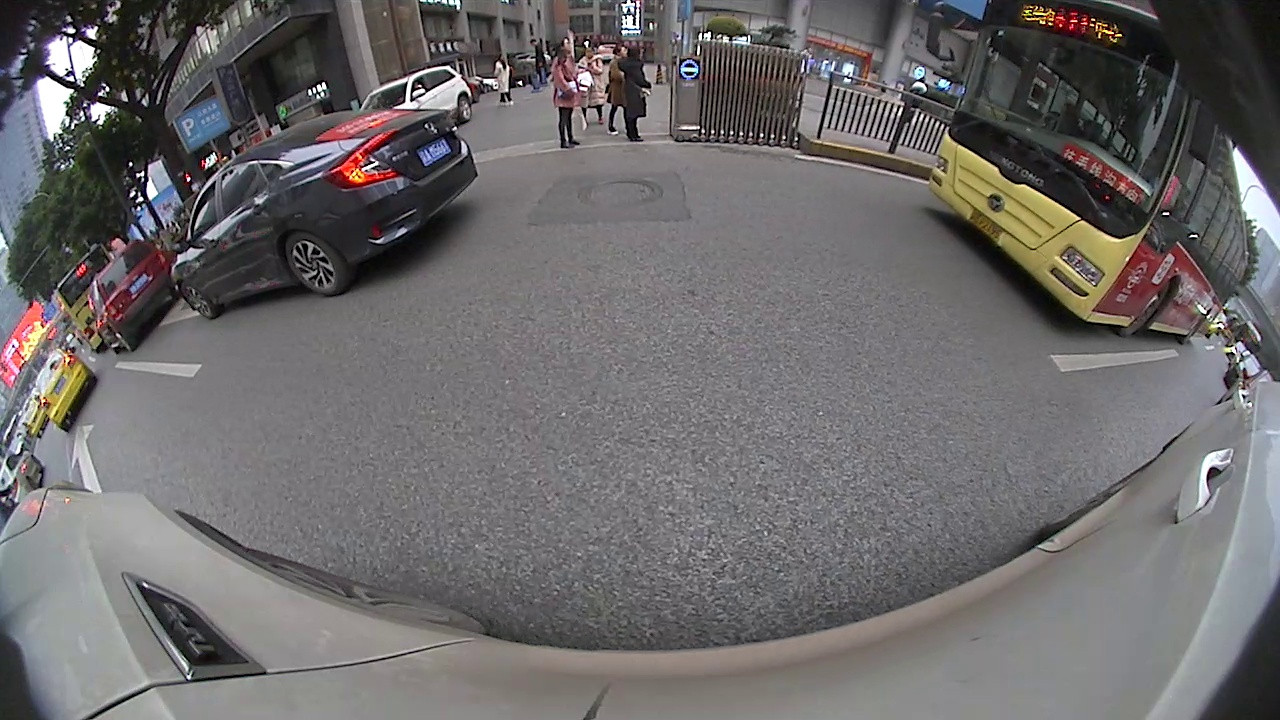bus: (921, 2, 1256, 349)
car: (168, 102, 480, 322), (84, 236, 186, 353), (359, 62, 473, 130), (30, 342, 97, 437)
front: (1115, 278, 1179, 338), (184, 287, 223, 321)
person: (551, 33, 582, 153), (621, 38, 652, 150), (578, 38, 608, 127), (609, 41, 629, 138)
rear: (284, 235, 359, 299), (111, 329, 136, 357), (457, 95, 475, 125)
